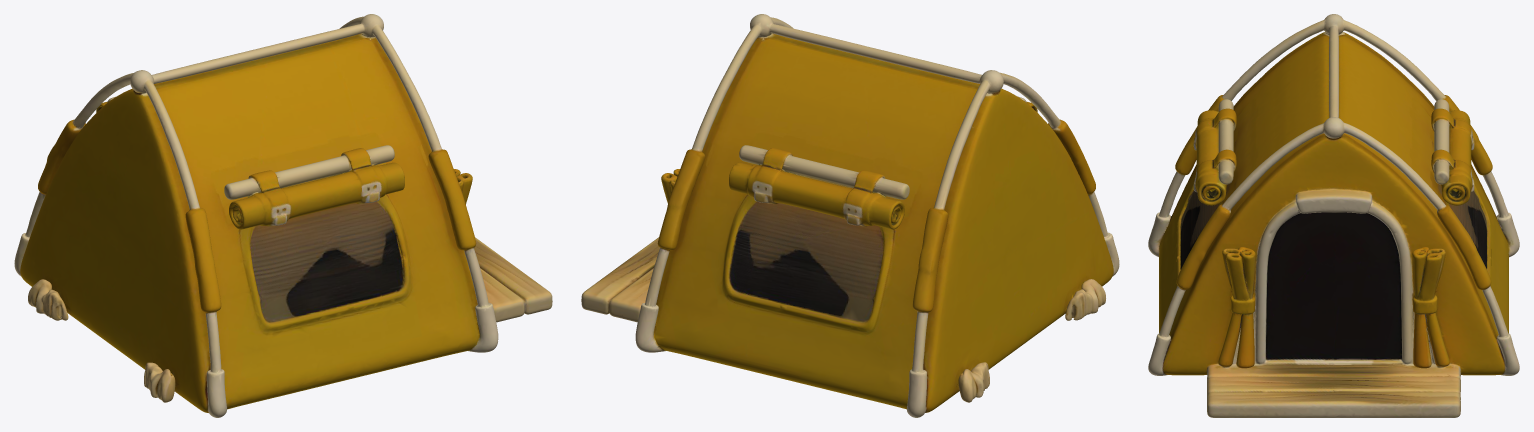
Rendered from CampTentHouseOpen.glb.
3 views of the same model, side by side, from view 1: azimuth 30°, elevation 25°; view 2: azimuth 150°, elevation 25°; view 3: azimuth 270°, elevation 25° (orthographic). The views are drawn at different scales.
Visible parts, largest first — view 1: tripo_node_62fcfaab-cef5-4c92-bcb6-b5dd2d3252cb; view 2: tripo_node_62fcfaab-cef5-4c92-bcb6-b5dd2d3252cb; view 3: tripo_node_62fcfaab-cef5-4c92-bcb6-b5dd2d3252cb.
Part boxes in pixels (x1=…): tripo_node_62fcfaab-cef5-4c92-bcb6-b5dd2d3252cb: x1=14, y1=14, x2=552, y2=417; tripo_node_62fcfaab-cef5-4c92-bcb6-b5dd2d3252cb: x1=581, y1=14, x2=1119, y2=417; tripo_node_62fcfaab-cef5-4c92-bcb6-b5dd2d3252cb: x1=1148, y1=14, x2=1519, y2=417.
Size of the model in its own units: 1 by 0.6643 by 0.8921.
1 material, 1 textured.
